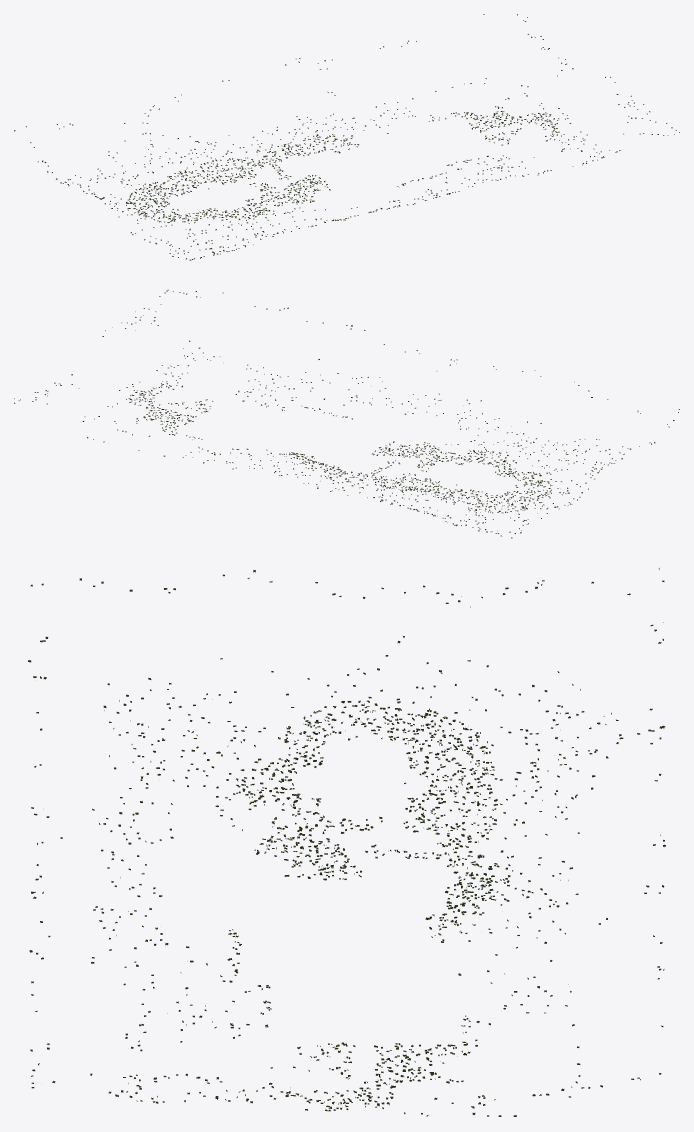
File: SM_Art_Cover_L_ThePrisonCourse_GrassBlades.gltf
3 renders of one model, top to bottom at view 1: azimuth 30°, elevation 25°; view 2: azimuth 150°, elevation 25°; view 3: azimuth 270°, elevation 25°, orthographic. The views are drawn at different scales.
Visible parts, largest first — view 1: SM_Art_Cover_L_ThePrisonCourse_GrassBlades; view 2: SM_Art_Cover_L_ThePrisonCourse_GrassBlades; view 3: SM_Art_Cover_L_ThePrisonCourse_GrassBlades.
Boxes of the visible parts, <box> form: SM_Art_Cover_L_ThePrisonCourse_GrassBlades: <box>14,14,679,260</box>; SM_Art_Cover_L_ThePrisonCourse_GrassBlades: <box>14,289,679,538</box>; SM_Art_Cover_L_ThePrisonCourse_GrassBlades: <box>28,568,665,1116</box>.
Bounding box in the file's own units: 341 × 30.82 × 183.
Materials: 1 (1 with a texture image).
